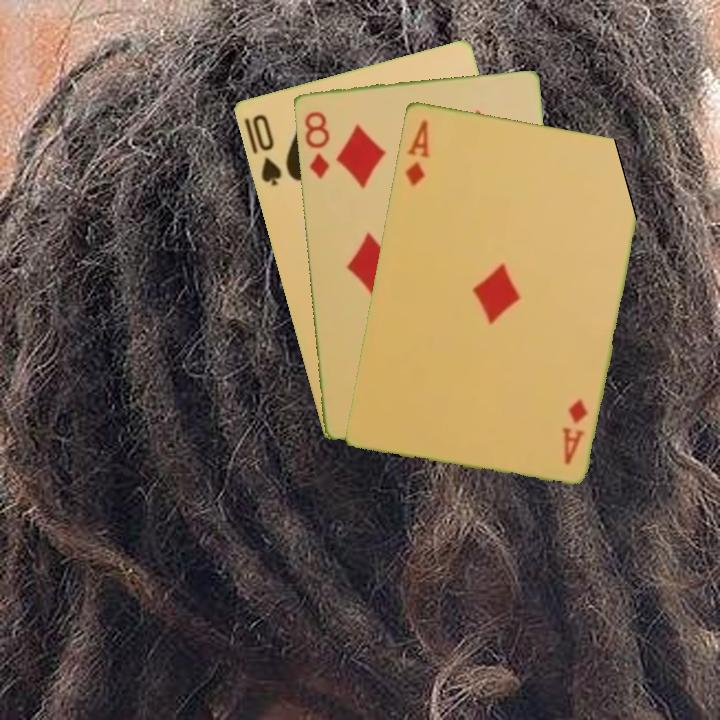10s: (248, 110, 284, 189)
8d: (300, 107, 332, 182)
Ad: (558, 394, 590, 467), (401, 116, 432, 188)
